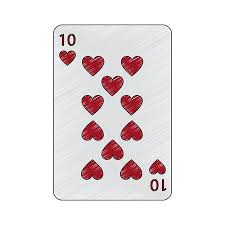ten of hearts: (54, 24, 172, 201)
